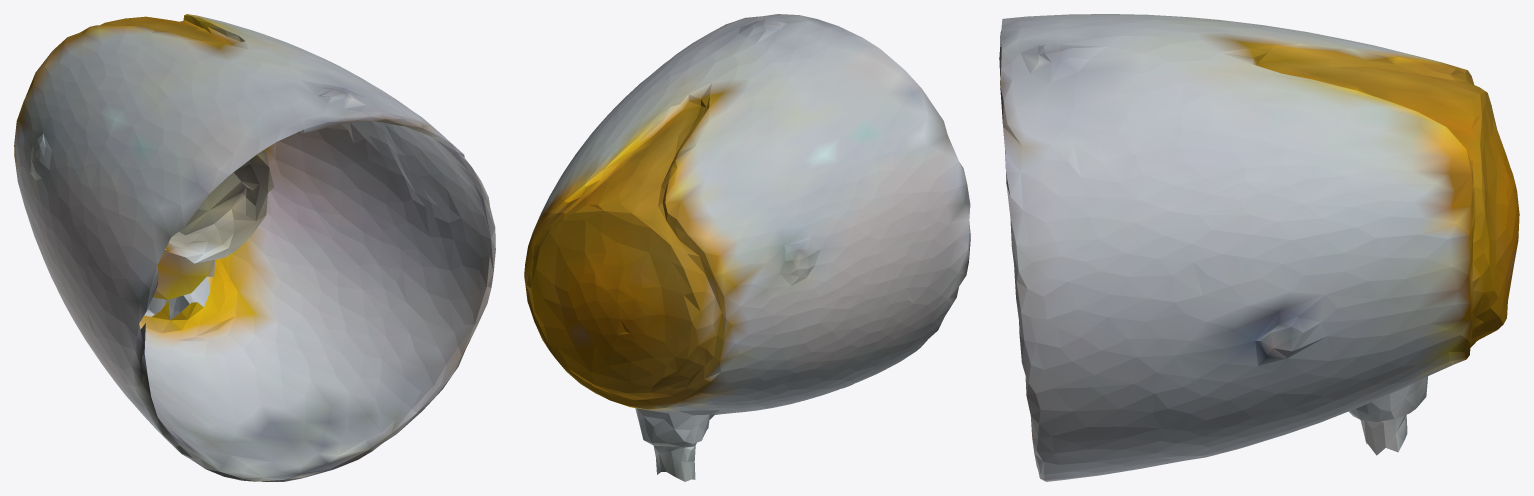
File: scan.obj
3 views of the same model, side by side, from view 1: azimuth 30°, elevation 25°; view 2: azimuth 150°, elevation 25°; view 3: azimuth 270°, elevation 25° (orthographic). The views are drawn at different scales.
Visible parts, largest first — view 1: scan.ply; view 2: scan.ply; view 3: scan.ply.
Boxes of the visible parts, left/top/right/bottom form: scan.ply: left=14, top=14, right=495, bottom=481; scan.ply: left=524, top=14, right=970, bottom=481; scan.ply: left=999, top=14, right=1519, bottom=481.
Size of the model in its own units: 0.11 by 0.1107 by 0.1227.
